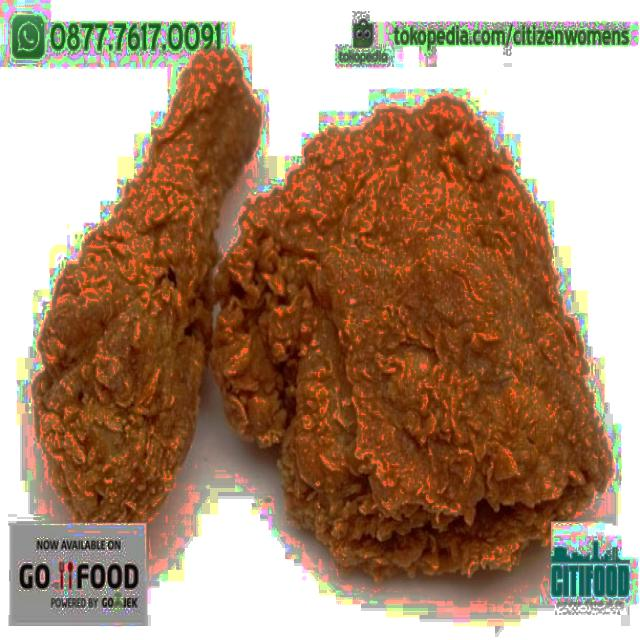fried_chicken: (214, 98, 615, 584), (31, 48, 262, 535)
